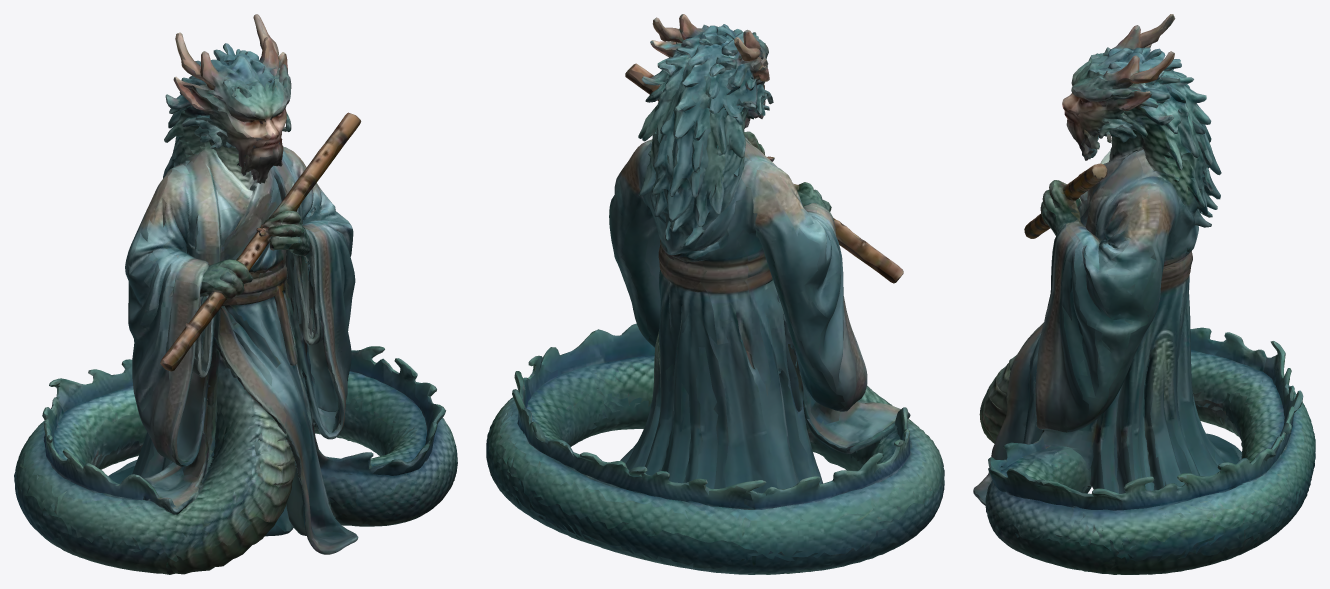
Rendered from jimeng.glb.
3 views of the same model, side by side, from view 1: azimuth 30°, elevation 25°; view 2: azimuth 150°, elevation 25°; view 3: azimuth 270°, elevation 25° (orthographic). The views are drawn at different scales.
Parts seen in each view (by area): view 1: geometry_0; view 2: geometry_0; view 3: geometry_0.
Boxes of the visible parts, box(x1,y1,x2,y2) form: geometry_0: box(14, 14, 457, 574); geometry_0: box(486, 14, 944, 574); geometry_0: box(973, 14, 1315, 574).
Size of the model in its own units: 0.5548 by 0.62 by 0.4212.
1 material, 1 textured.
